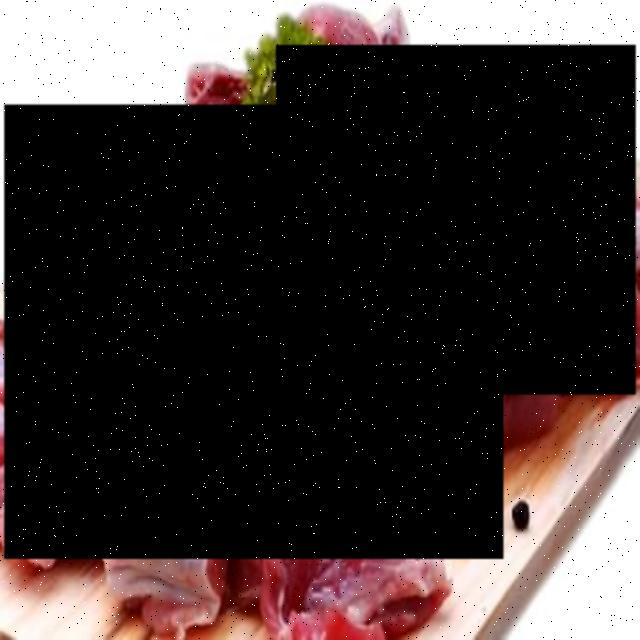Mutton: (4, 106, 503, 561), (276, 46, 636, 396)
